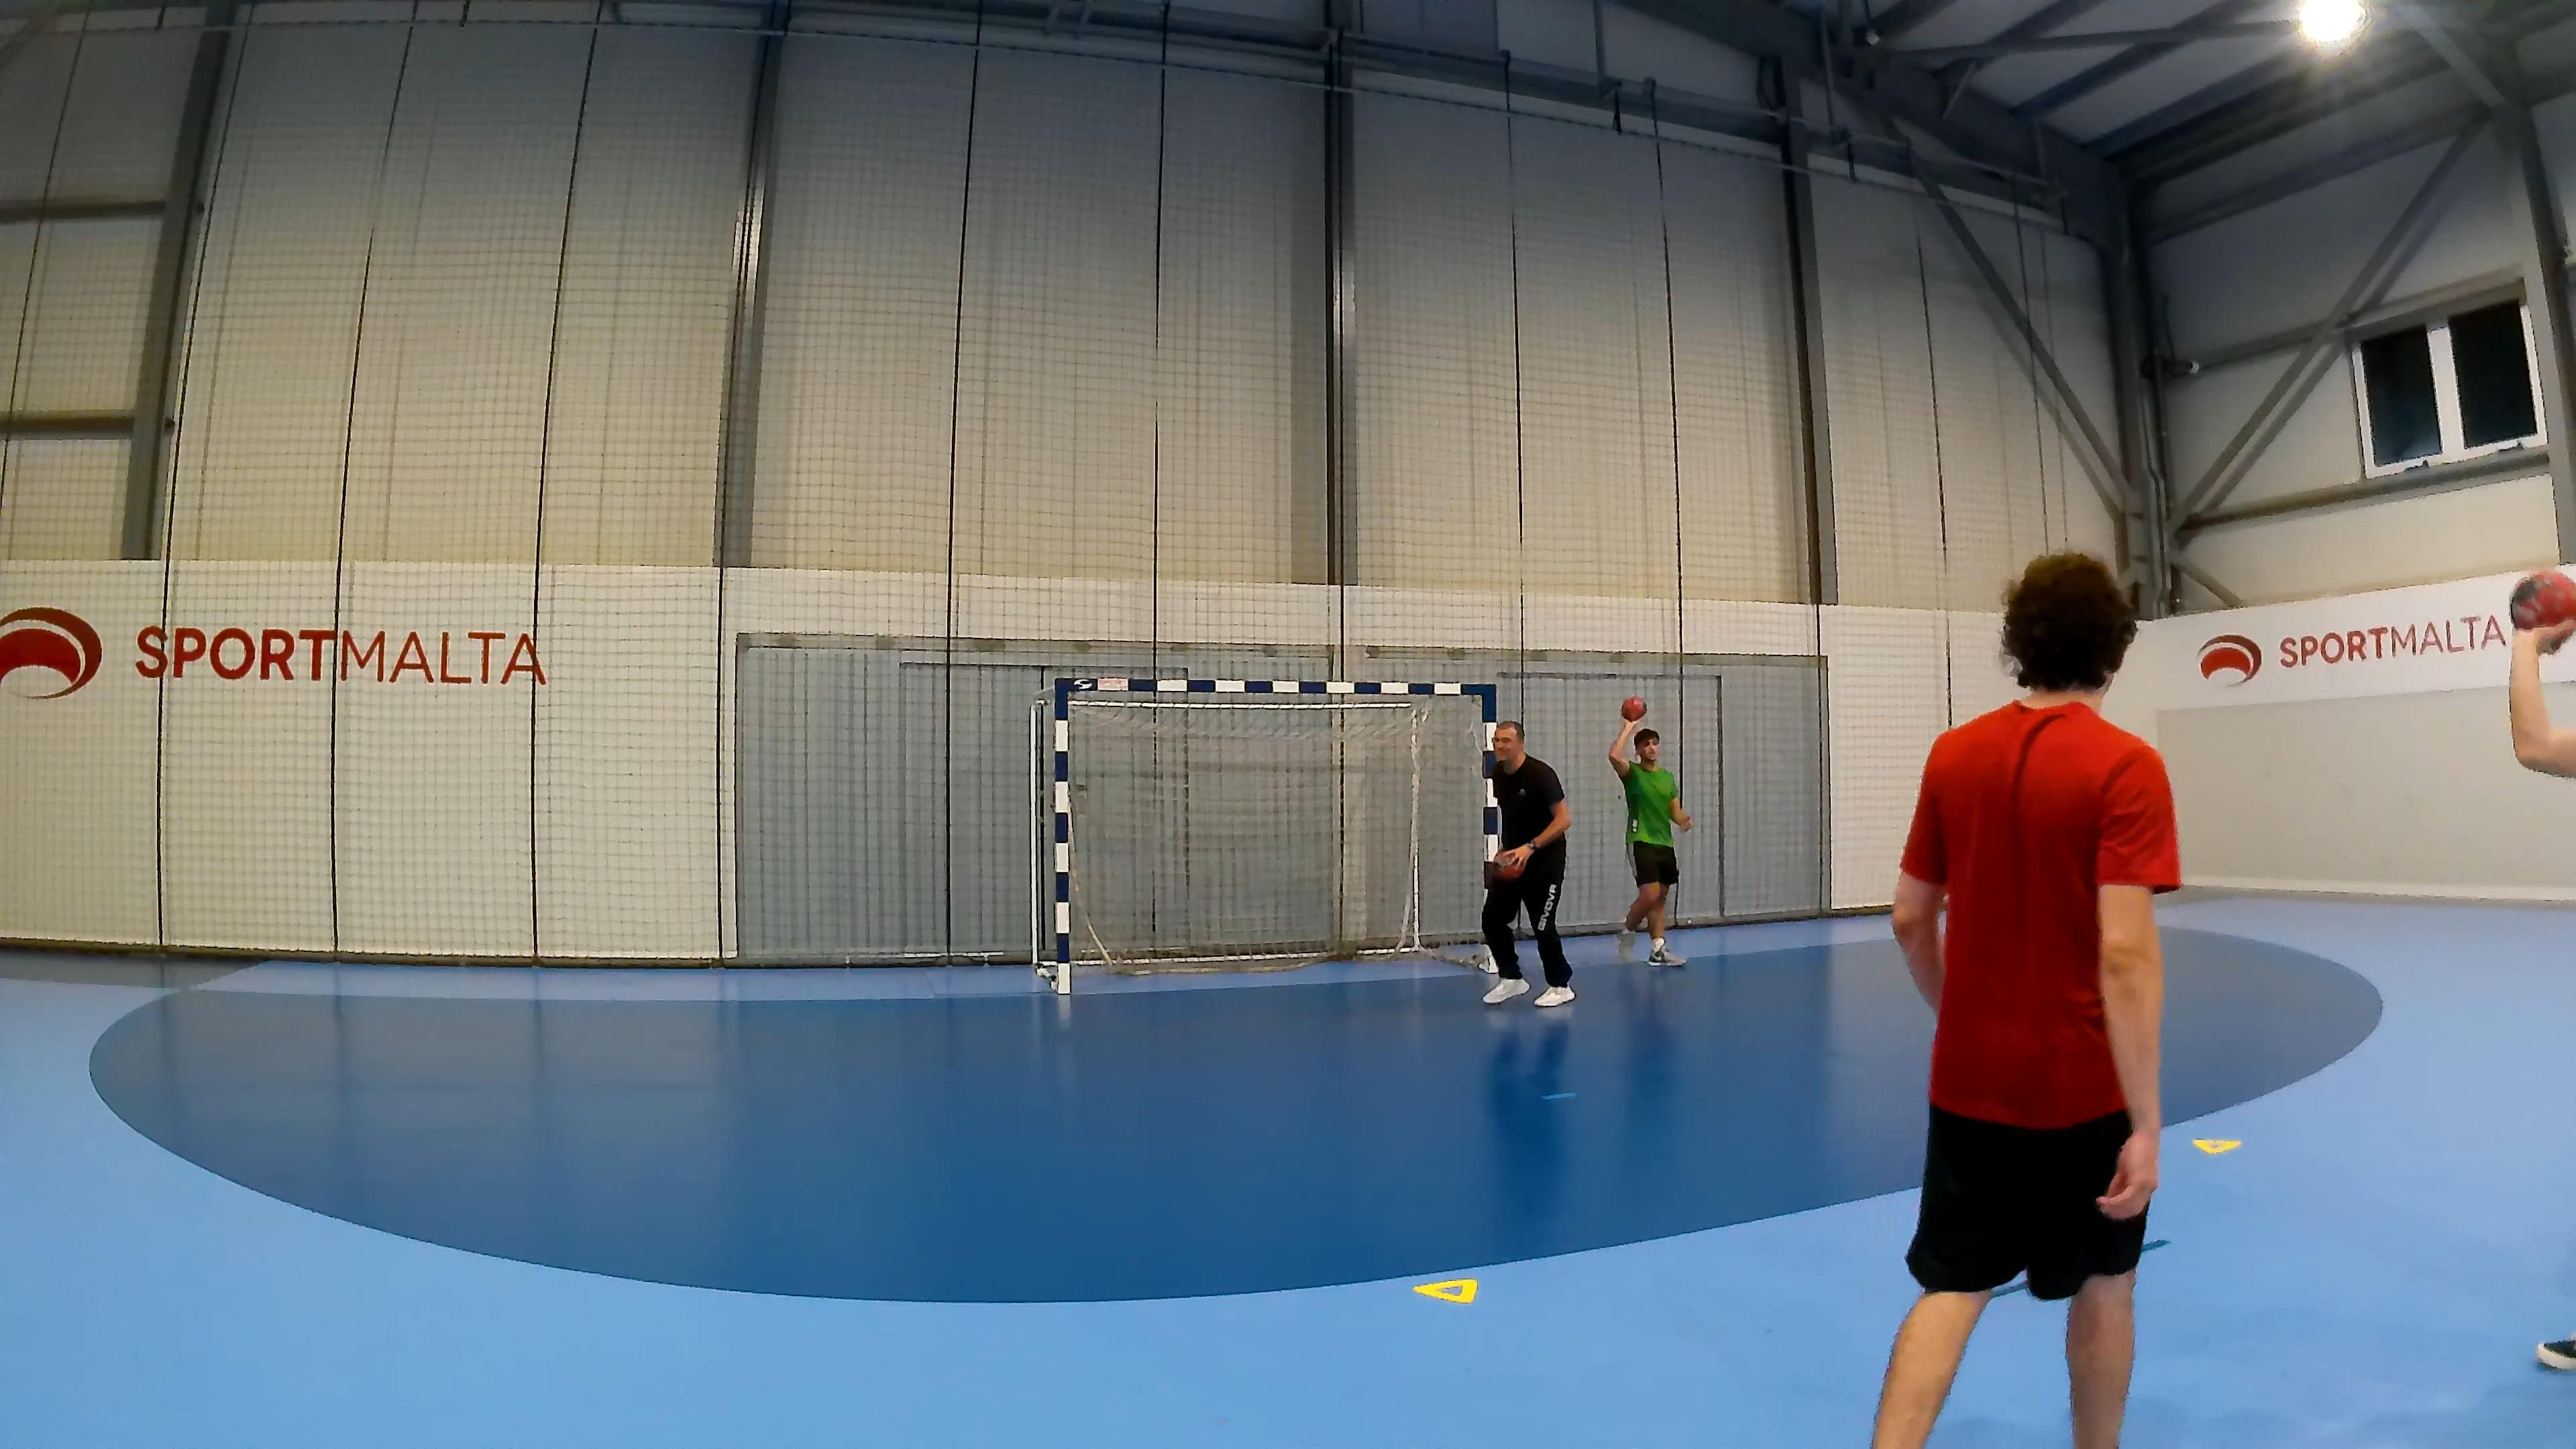handball: (2509, 568, 2574, 640), (1621, 695, 1645, 720)
